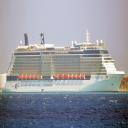cruises: (4, 25, 126, 98)
